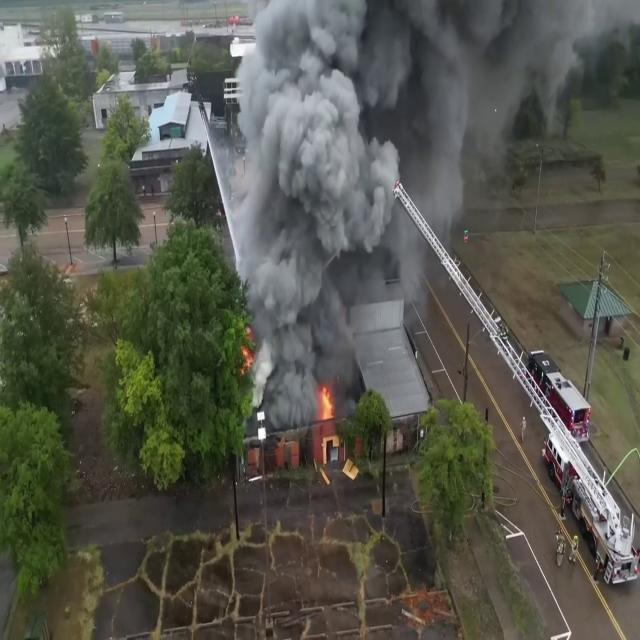Fire: (314, 378, 338, 426)
Smoke: (226, 1, 487, 394)
